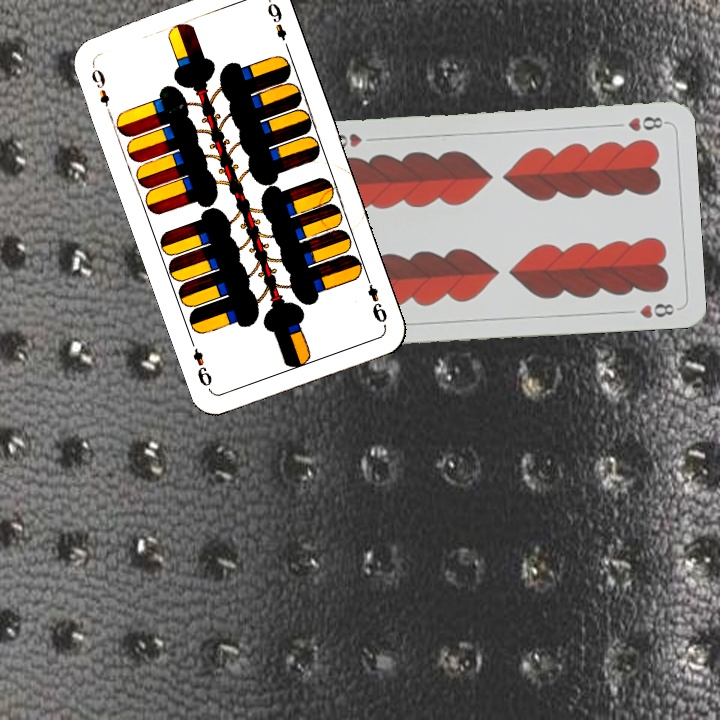E9: (361, 271, 390, 326), (87, 61, 114, 118)
H8: (624, 112, 669, 134)
